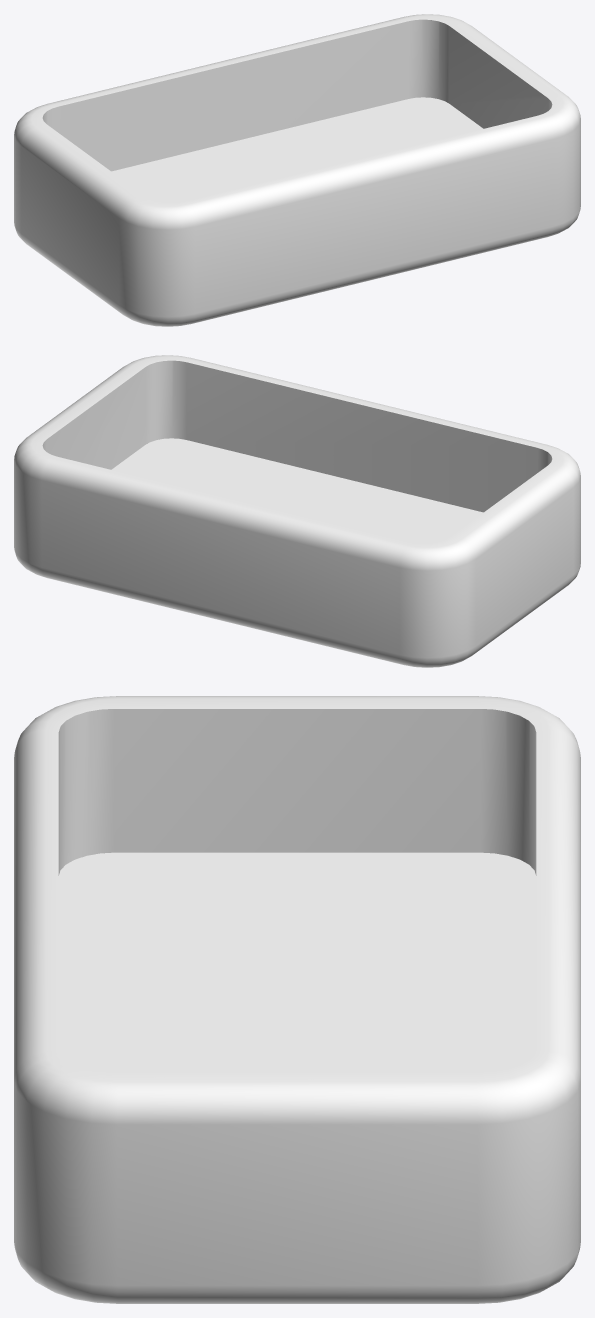
Rendered from SoapBar_Holder.fbx.
3 renders of one model, top to bottom at view 1: azimuth 30°, elevation 25°; view 2: azimuth 150°, elevation 25°; view 3: azimuth 270°, elevation 25°, orthographic. The views are drawn at different scales.
Parts seen in each view (by area): view 1: SoapBar_Holder; view 2: SoapBar_Holder; view 3: SoapBar_Holder.
Boxes of the visible parts, box(x1,y1,x2,y2) form: SoapBar_Holder: box(14, 14, 580, 326); SoapBar_Holder: box(14, 355, 580, 667); SoapBar_Holder: box(14, 696, 580, 1303).
Bounding box in the file's own units: 200 × 49.77 × 117.
1 material, 1 textured.
